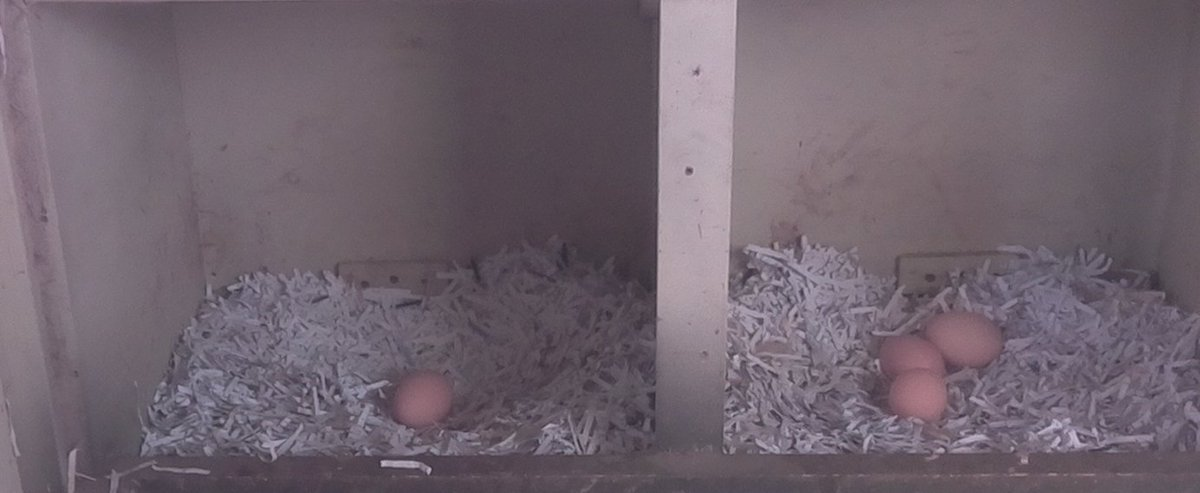egg: (920, 307, 1008, 373), (390, 366, 457, 432), (873, 330, 950, 384), (882, 366, 951, 425)
